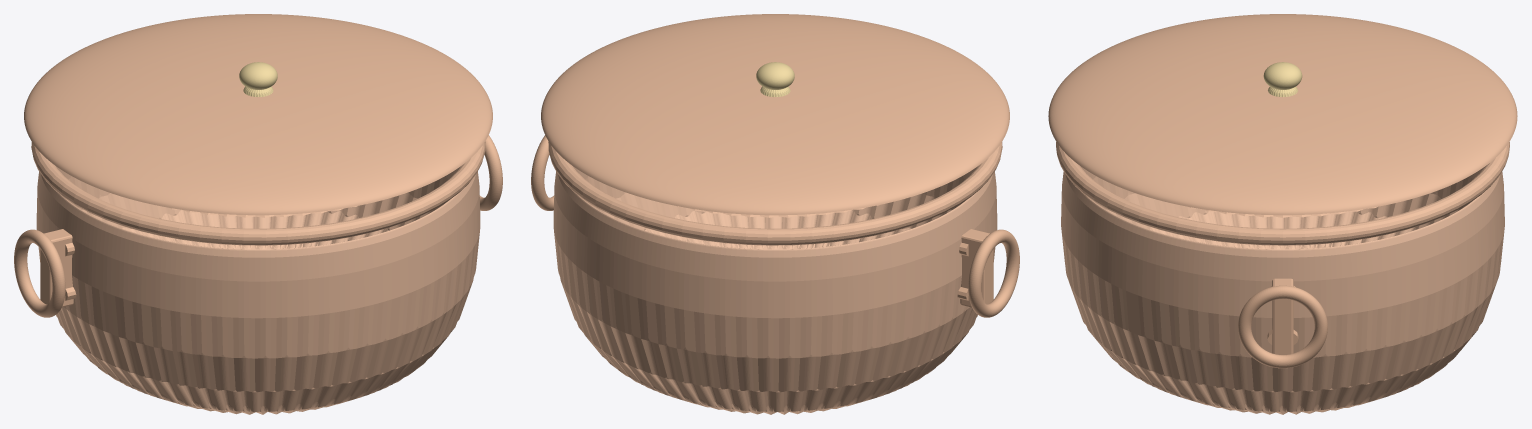
3 views of the same model, side by side, from view 1: azimuth 30°, elevation 25°; view 2: azimuth 150°, elevation 25°; view 3: azimuth 270°, elevation 25° (orthographic).
Visible parts, largest first — view 1: Pot_Lid, Pot_Body, Pot_Rim, Pot_Handle_2, Pot_Handle_Connector_2, Pot_Handle_1, Lid_Knob_Top; view 2: Pot_Lid, Pot_Body, Pot_Rim, Pot_Handle_2, Pot_Handle_Connector_2, Pot_Handle_1, Lid_Knob_Top; view 3: Pot_Lid, Pot_Body, Pot_Rim, Pot_Handle_1, Pot_Handle_Connector_1, Lid_Knob_Top.
Part boxes in pixels (box(x1,y1,x2,y2)): Pot_Lid: box(24, 14, 492, 215); Pot_Body: box(36, 166, 480, 414); Pot_Rim: box(31, 141, 485, 245); Pot_Handle_2: box(14, 229, 65, 317); Pot_Handle_Connector_2: box(40, 229, 73, 307); Pot_Handle_1: box(479, 135, 502, 210); Lid_Knob_Top: box(239, 62, 277, 89); Pot_Lid: box(541, 14, 1009, 215); Pot_Body: box(553, 166, 997, 414); Pot_Rim: box(548, 141, 1002, 245); Pot_Handle_2: box(968, 229, 1019, 317); Pot_Handle_Connector_2: box(960, 229, 993, 307); Pot_Handle_1: box(531, 135, 554, 210); Lid_Knob_Top: box(756, 62, 794, 89); Pot_Lid: box(1048, 14, 1517, 215); Pot_Body: box(1061, 166, 1504, 414); Pot_Rim: box(1056, 142, 1509, 245); Pot_Handle_1: box(1238, 285, 1327, 368); Pot_Handle_Connector_1: box(1272, 278, 1293, 354); Lid_Knob_Top: box(1263, 62, 1302, 89).
Size of the model in its own units: 0.7391 by 0.507 by 0.6689.
